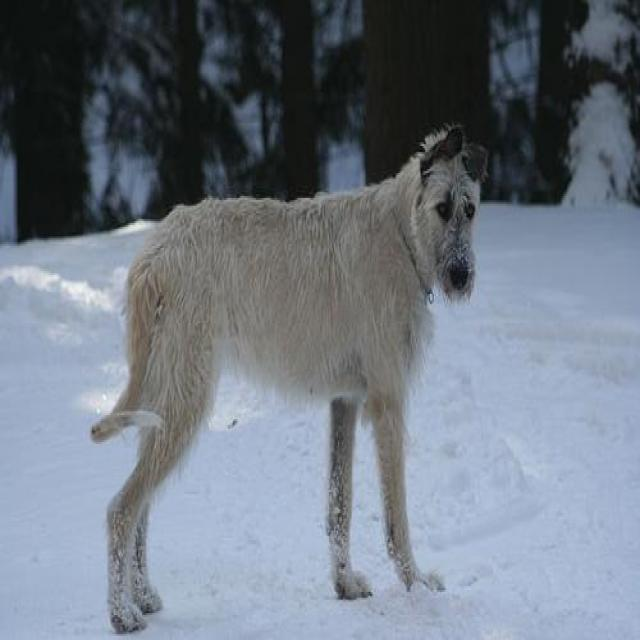good: (85, 120, 488, 609)
